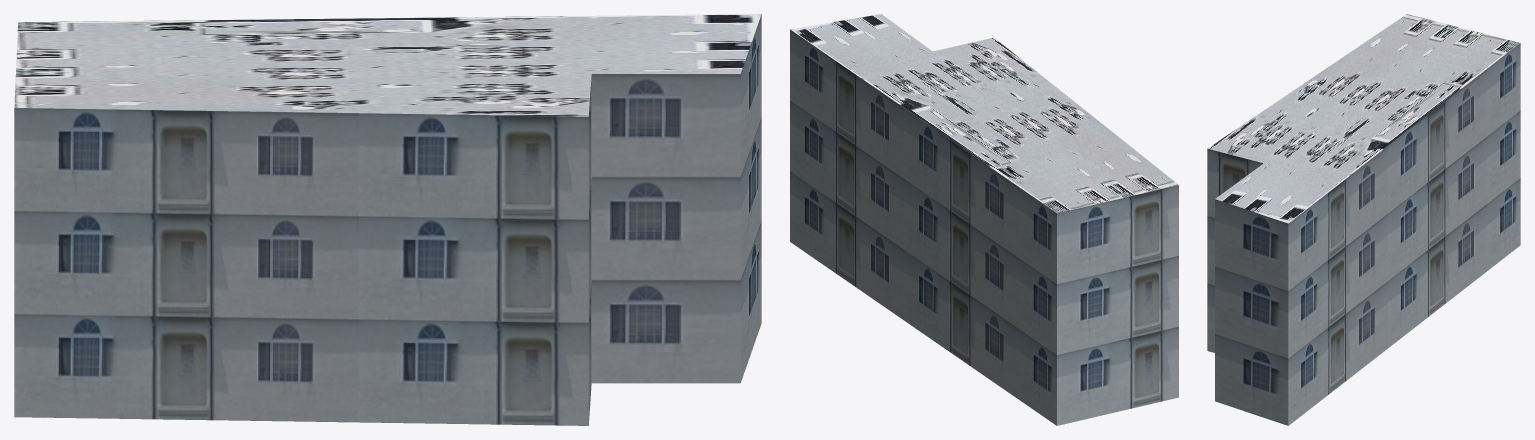
File: ResTex__3377.fbx
3 renders of one model, left to right at view 1: azimuth 30°, elevation 25°; view 2: azimuth 150°, elevation 25°; view 3: azimuth 270°, elevation 25°, orthographic. The views are drawn at different scales.
Visible parts, largest first — view 1: CityEngineMaterial_17_m, CityEngineMaterial_2_m; view 2: CityEngineMaterial_17_m, CityEngineMaterial_2_m; view 3: CityEngineMaterial_17_m, CityEngineMaterial_2_m.
Boxes of the visible parts, box(x1,y1,x2,y2) form: CityEngineMaterial_17_m: box(14, 14, 761, 425); CityEngineMaterial_2_m: box(14, 14, 761, 116); CityEngineMaterial_17_m: box(790, 29, 1178, 425); CityEngineMaterial_2_m: box(790, 14, 1178, 213); CityEngineMaterial_17_m: box(1207, 43, 1520, 425); CityEngineMaterial_2_m: box(1208, 14, 1519, 223).
Size of the model in its own units: 19.99 by 9 by 12.63.
Materials: 2 (2 with a texture image).
